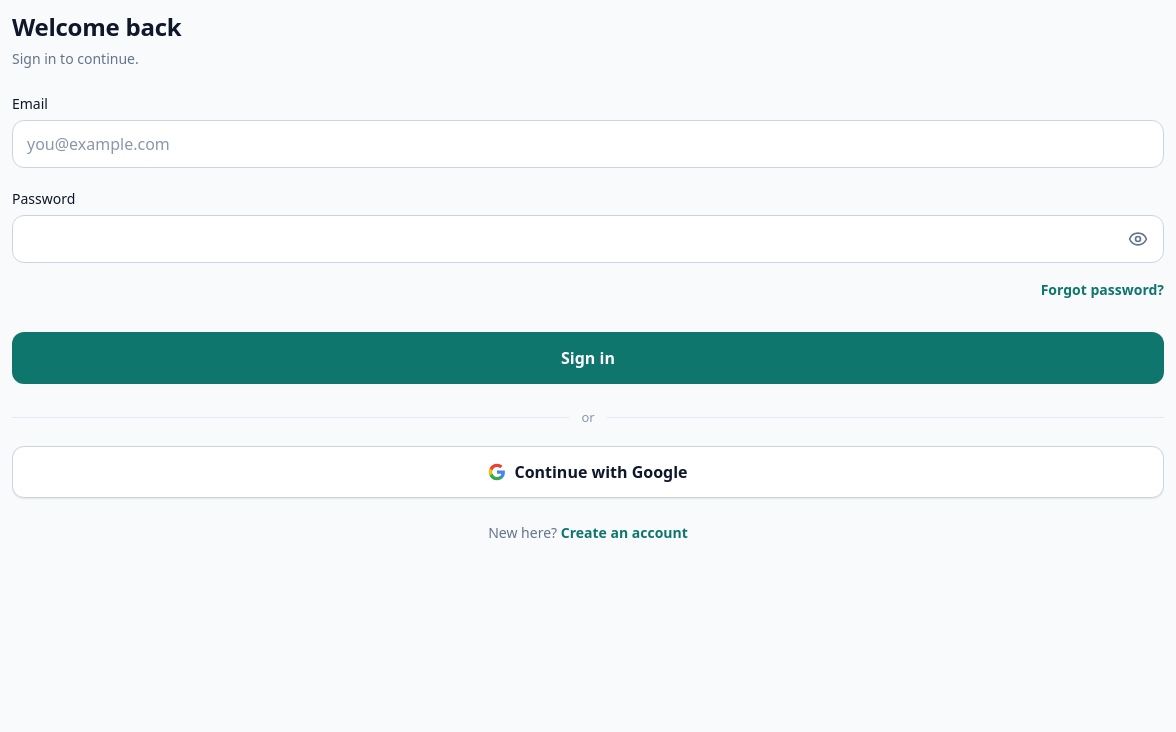
sign-in with two-factor › asks for the code after the password, without signing in or storing anything
Type "alex@example.com" into the field labelled "Email" at (588, 144), box [12,120,1164,168]
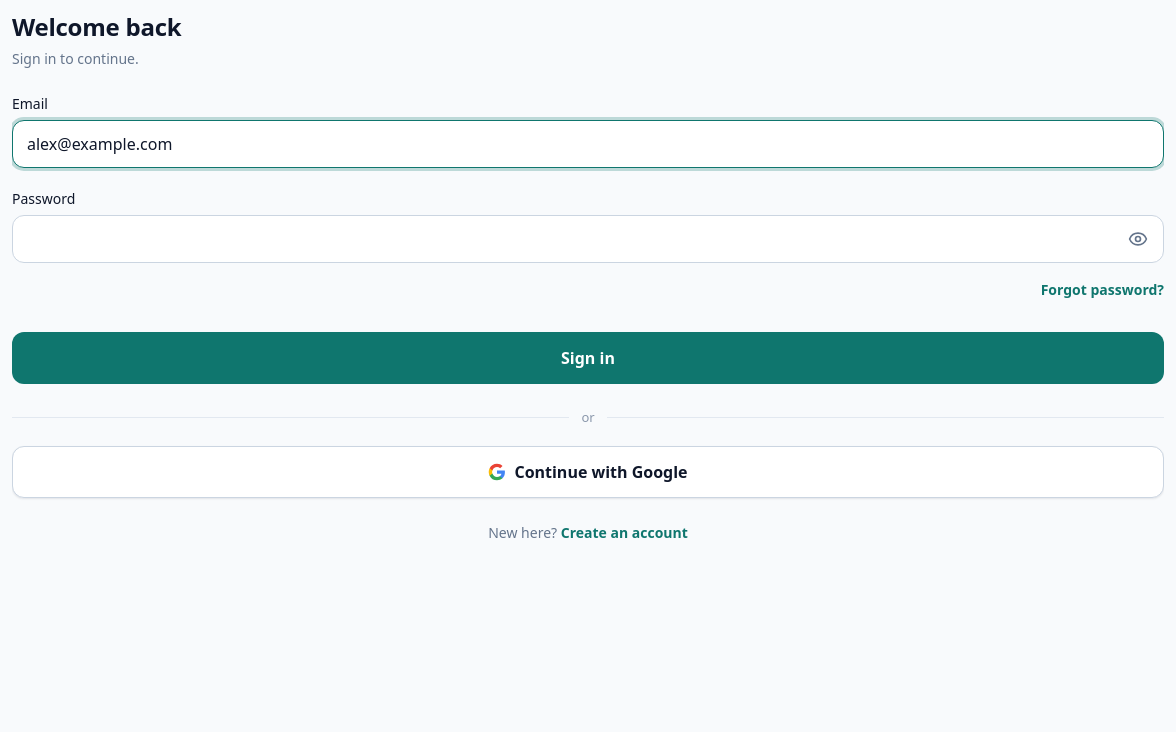
Type "calm-river-sunrise-42" into the password field labelled "Password" at (588, 239), box [12,215,1164,263]
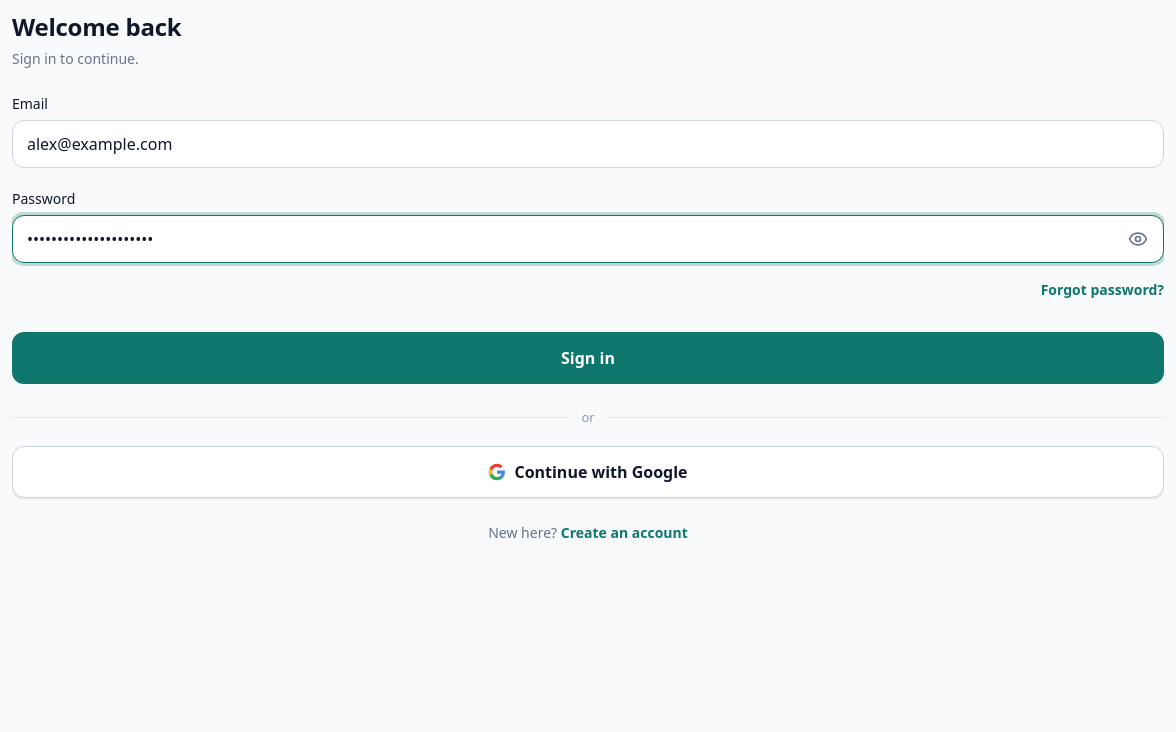
Click the button "Sign in" at (588, 358), box [12,332,1164,384]
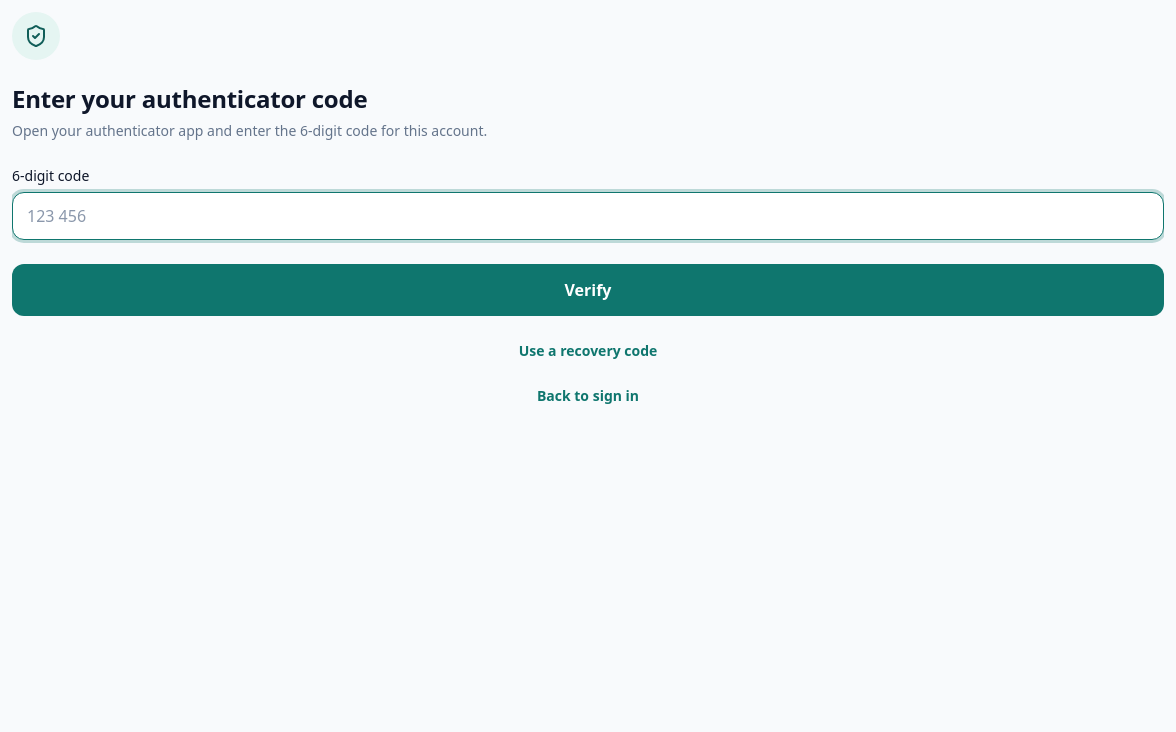
Expected: the heading "Enter your authenticator code" is shown, [12,82,367,115]
Expected: the label labelled "Password" is gone
